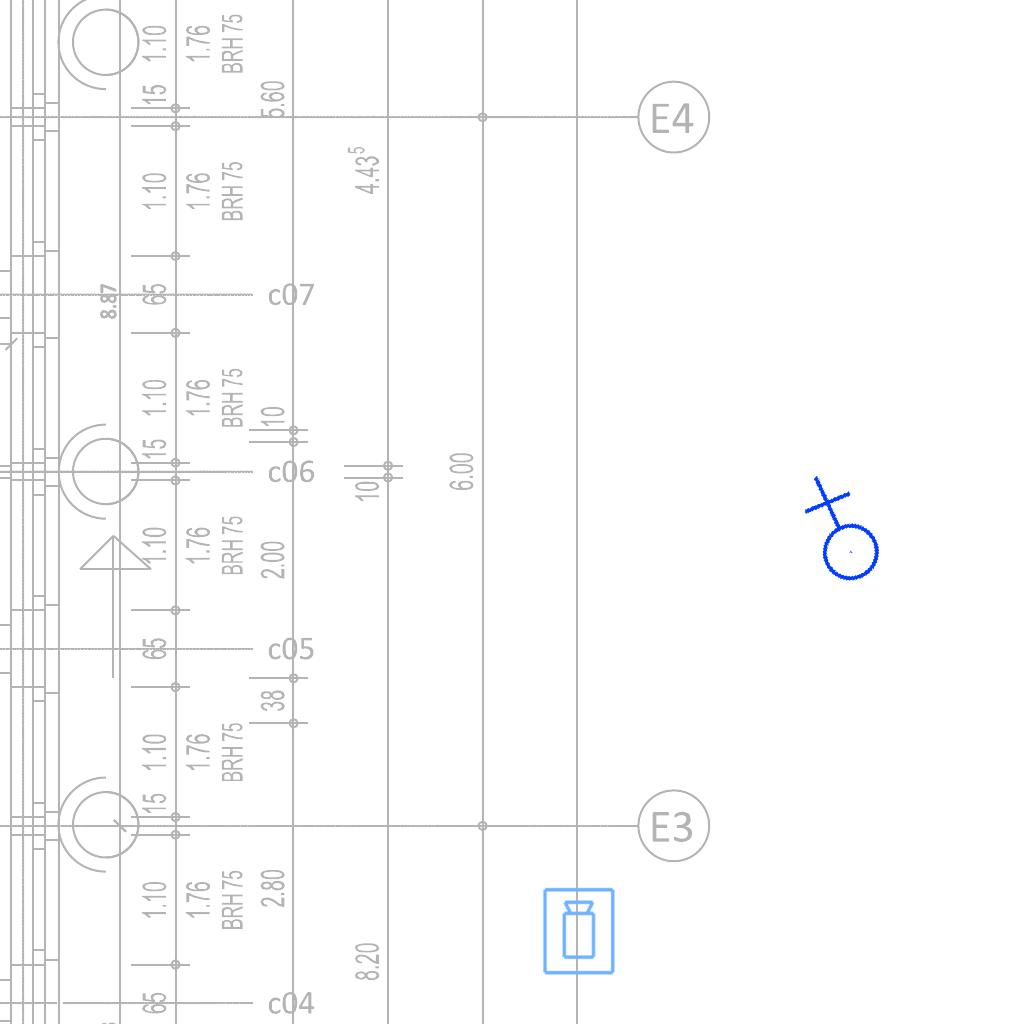Elektroanschluss_allgemein_230V_Geraeteanschlussdose_230V: (777, 472, 900, 598)
KFO_Kamera_mit_Festobjektiv: (541, 886, 618, 977)
